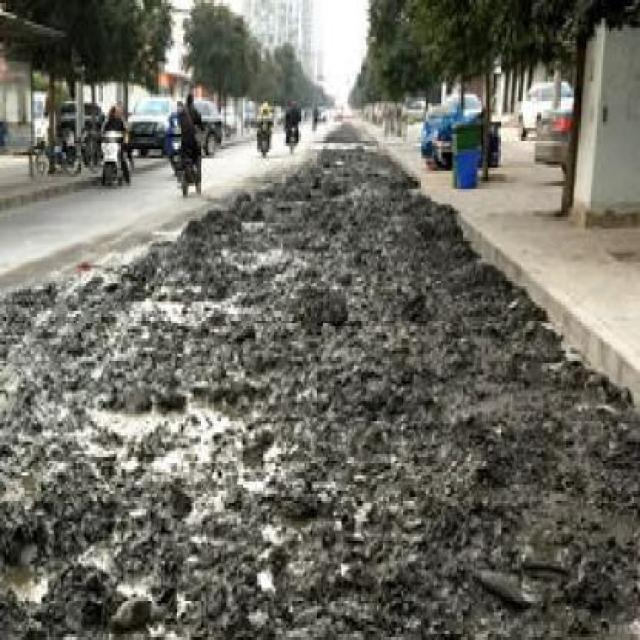garbage: (76, 292, 560, 636), (306, 146, 391, 637), (3, 298, 114, 630), (195, 220, 467, 290), (140, 242, 210, 290)
